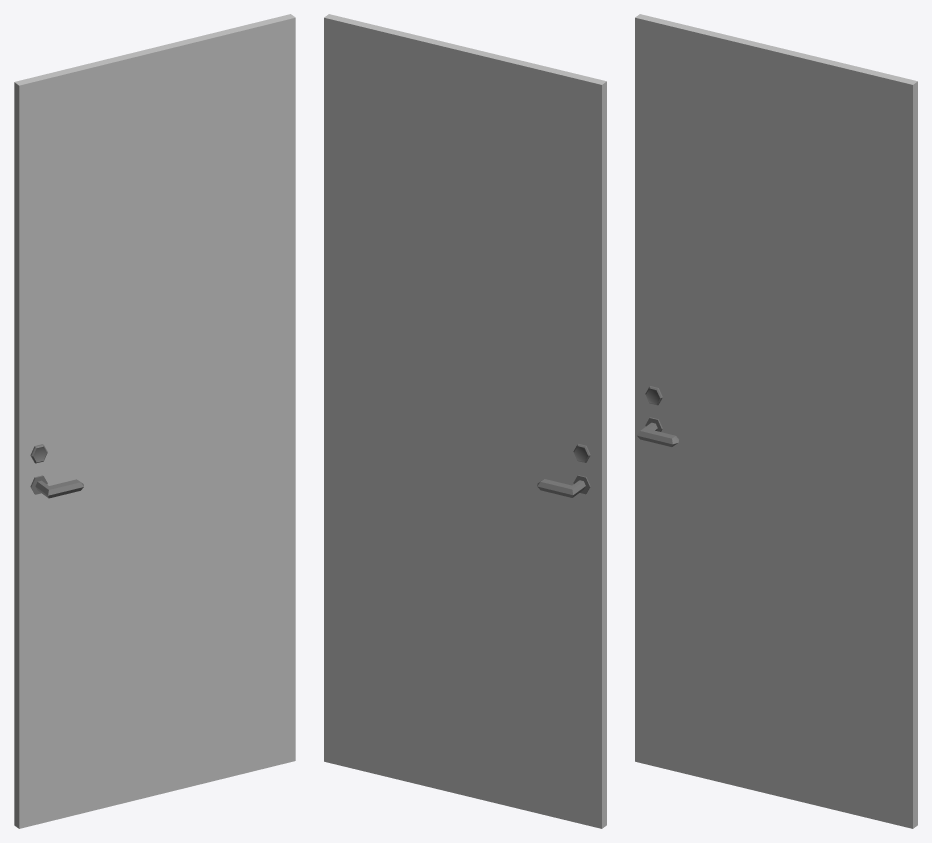
The model's file is SW_corridor__R_lobby_R_Aula_Ovi_014.FBX.
3 views of the same model, side by side, from view 1: azimuth 30°, elevation 25°; view 2: azimuth 150°, elevation 25°; view 3: azimuth 330°, elevation 25° (orthographic).
Visible parts, largest first — view 1: SW_corridor__R_lobby_R_Aula_Ovi_014; view 2: SW_corridor__R_lobby_R_Aula_Ovi_014; view 3: SW_corridor__R_lobby_R_Aula_Ovi_014.
Part boxes in pixels (left/top/right/bottom): SW_corridor__R_lobby_R_Aula_Ovi_014: left=14, top=14, right=295, bottom=828; SW_corridor__R_lobby_R_Aula_Ovi_014: left=324, top=14, right=606, bottom=828; SW_corridor__R_lobby_R_Aula_Ovi_014: left=635, top=14, right=917, bottom=828.
Size of the model in its own units: 80 by 15.99 by 205.
